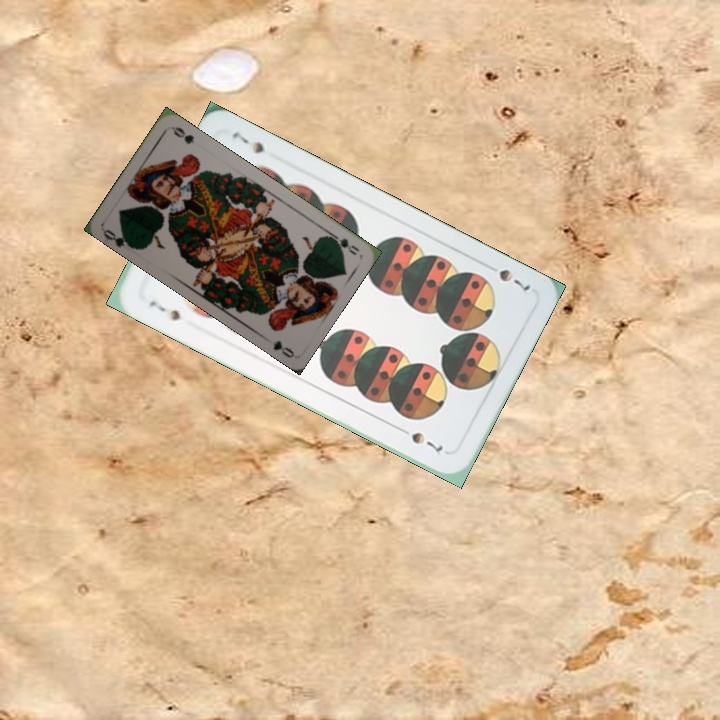GO: (324, 228, 362, 258), (99, 225, 138, 252)
S7: (480, 259, 533, 294), (145, 297, 183, 324)
